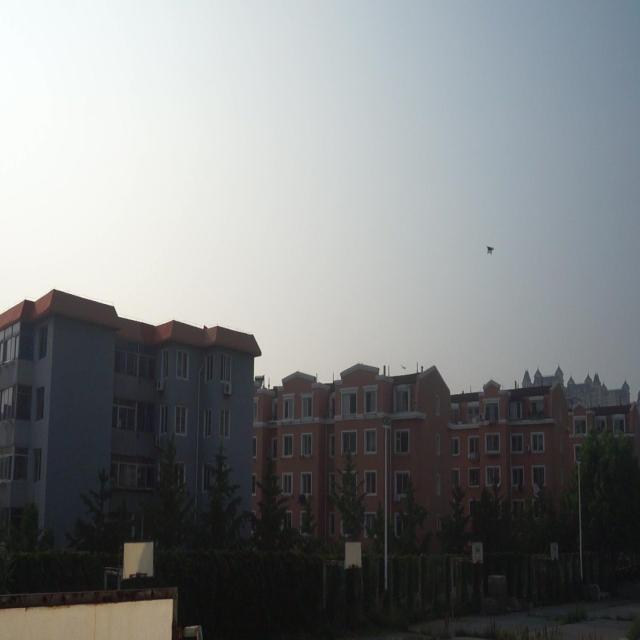drone: (484, 242, 497, 257)
